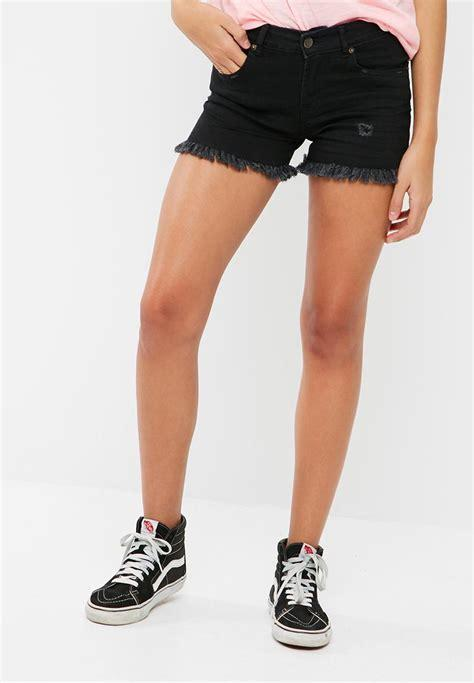short: (174, 22, 414, 183)
